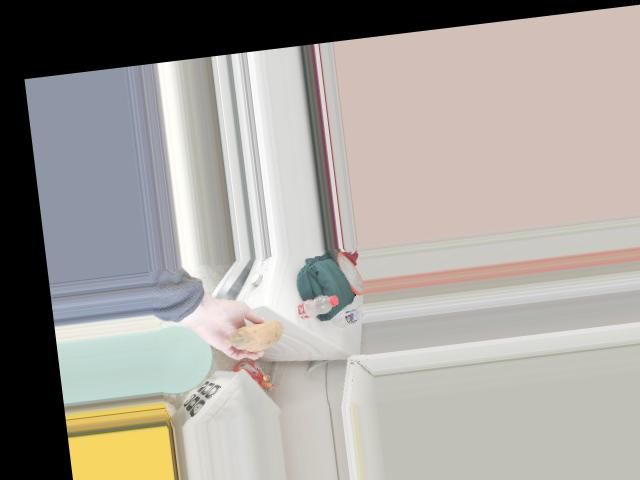sweet_potato: (219, 315, 289, 351)
